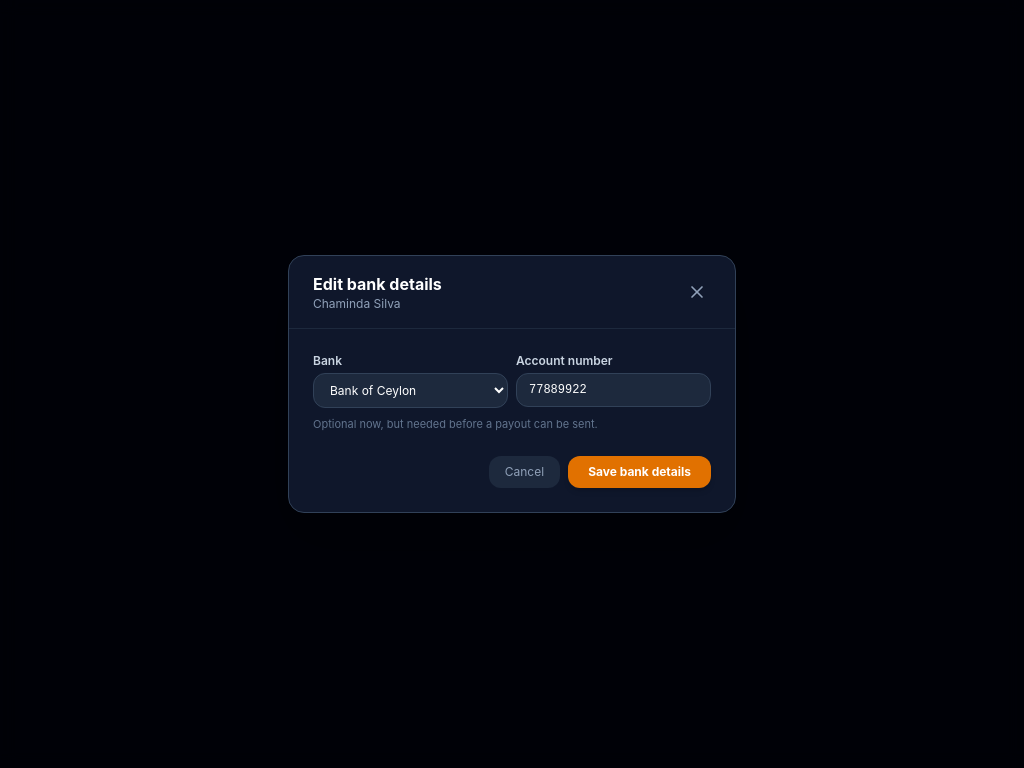
EditWorkerBankModal › keeps the old details when the new ones are invalid
Replace the text in the field with test id "bank-account" with "12": point(614, 390) [516, 373, 711, 407]
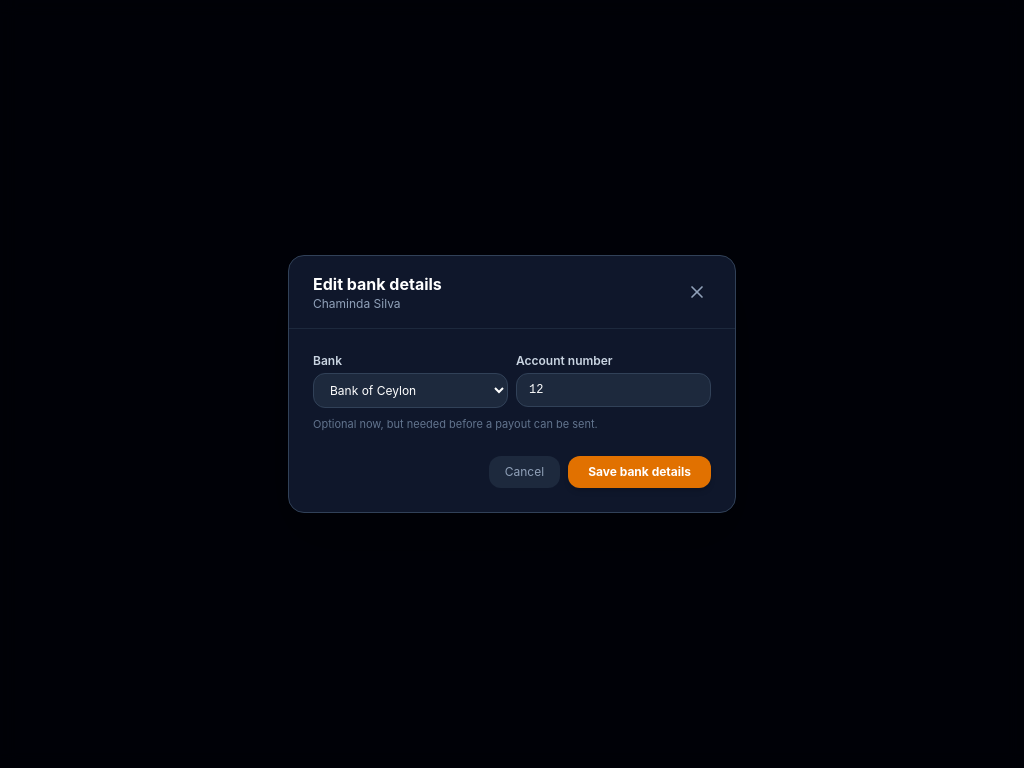
Click the button with test id "bank-save": point(640, 472) [568, 456, 711, 488]
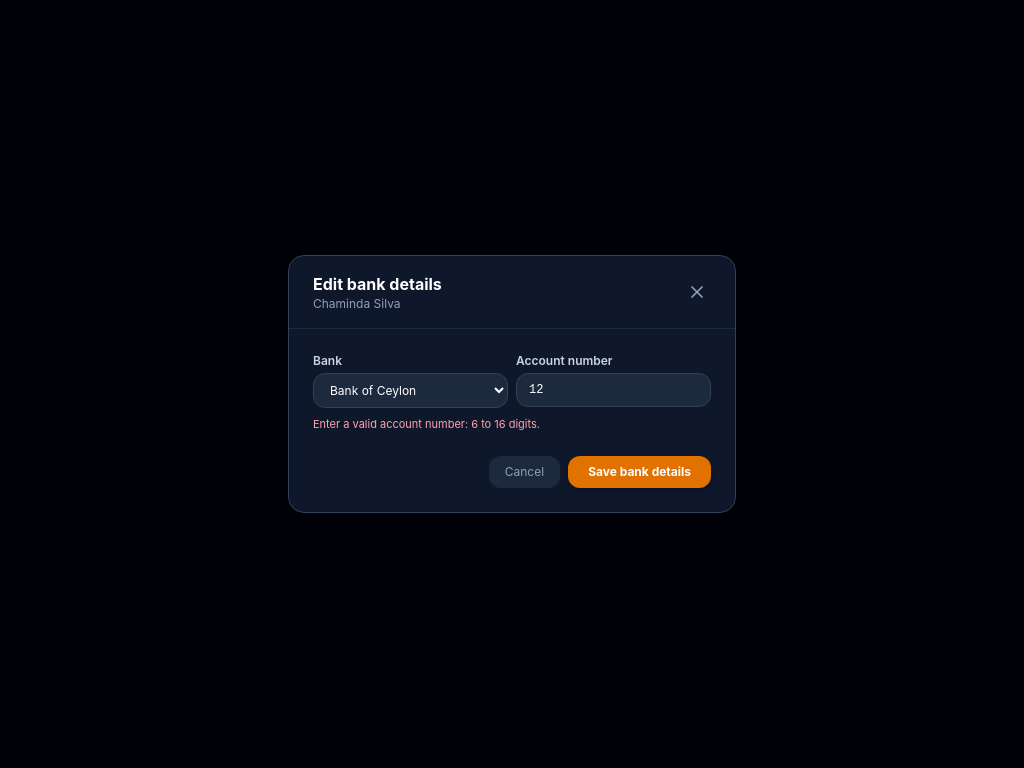
Expected: the message "Enter a valid account number: 6 to 16 digits." is shown, [313, 417, 540, 431]
